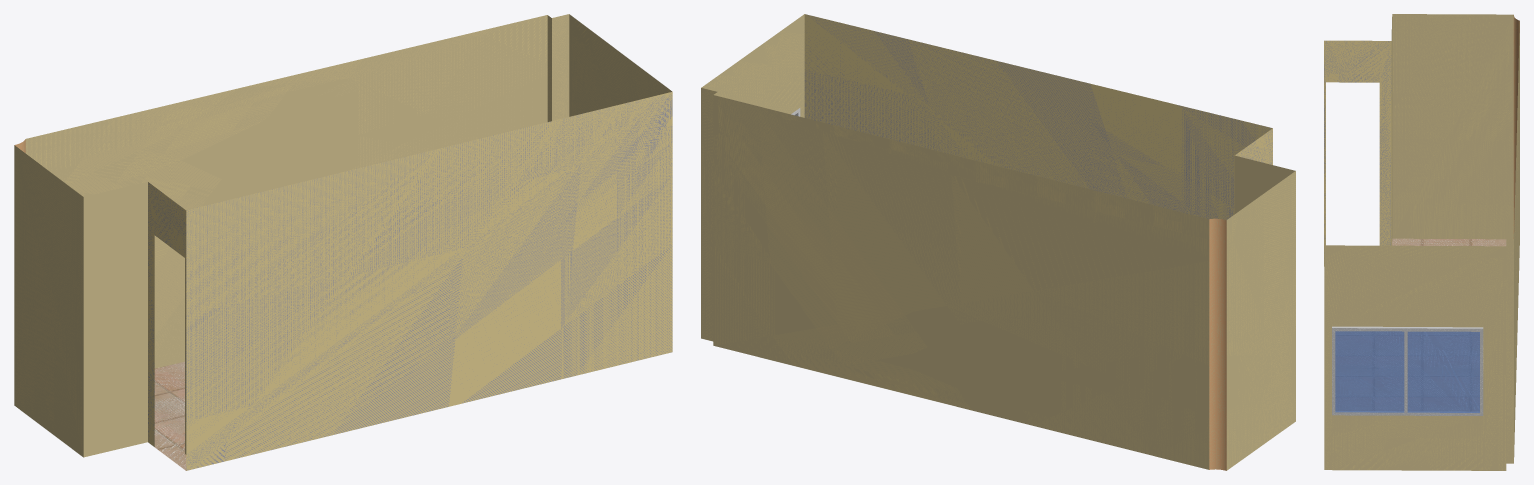
File: DES010.obj
The picture shows the model from 3 angles, left to right: view 1: azimuth 30°, elevation 25°; view 2: azimuth 150°, elevation 25°; view 3: azimuth 270°, elevation 25°; orthographic projection. The views are drawn at different scales.
Parts seen in each view (by area): view 1: Mesh6 DES010 Model; view 2: Mesh6 DES010 Model; view 3: Mesh6 DES010 Model, Mesh1 ventana2_1 DES010 Model.
Boxes of the visible parts, x1,y1,x2,y2 form: Mesh6 DES010 Model: [14, 14, 672, 470]; Mesh6 DES010 Model: [701, 14, 1295, 470]; Mesh6 DES010 Model: [1324, 14, 1519, 470]; Mesh1 ventana2_1 DES010 Model: [1332, 326, 1483, 415].
Bounding box in the file's own units: 8.03 × 3.6 × 2.84.
10 materials, 2 textured.
